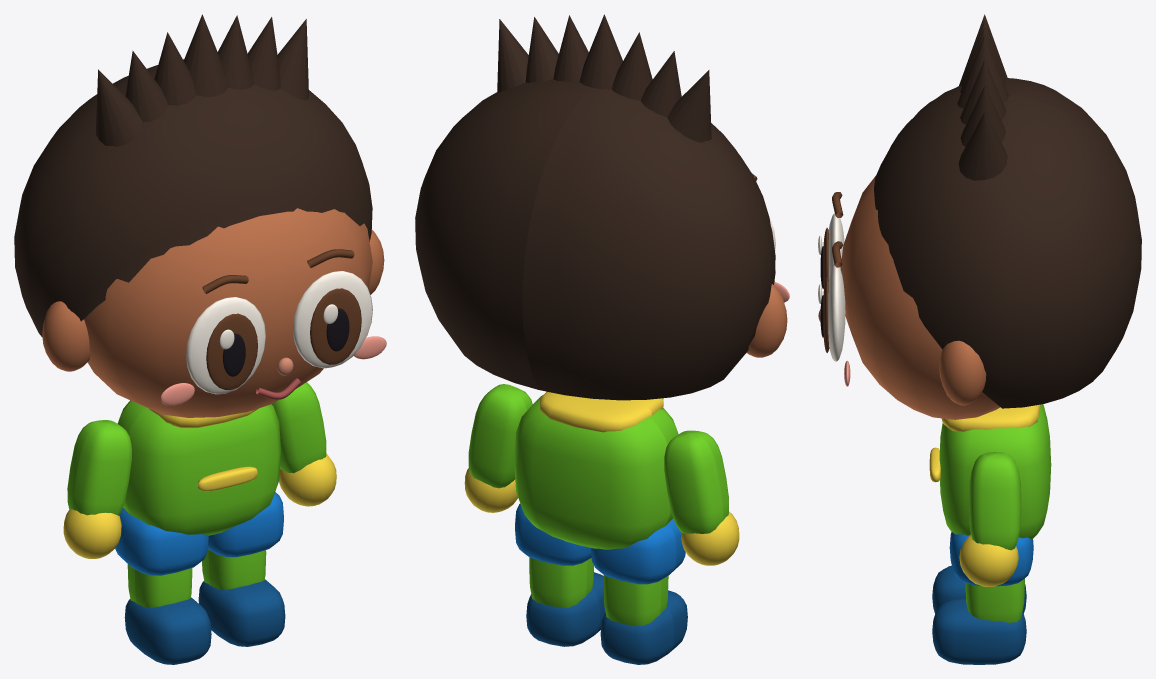
3 renders of one model, left to right at view 1: azimuth 30°, elevation 25°; view 2: azimuth 150°, elevation 25°; view 3: azimuth 270°, elevation 25°, orthographic. The views are drawn at different scales.
Visible parts, largest first — view 1: 비라; view 2: 비라; view 3: 비라.
Part boxes in pixels (x1,y1,x2,y2): 비라: (14, 14, 386, 664); 비라: (415, 14, 789, 664); 비라: (818, 14, 1141, 664).
Bounding box in the file's own units: 1.11 × 1.99 × 0.962.
